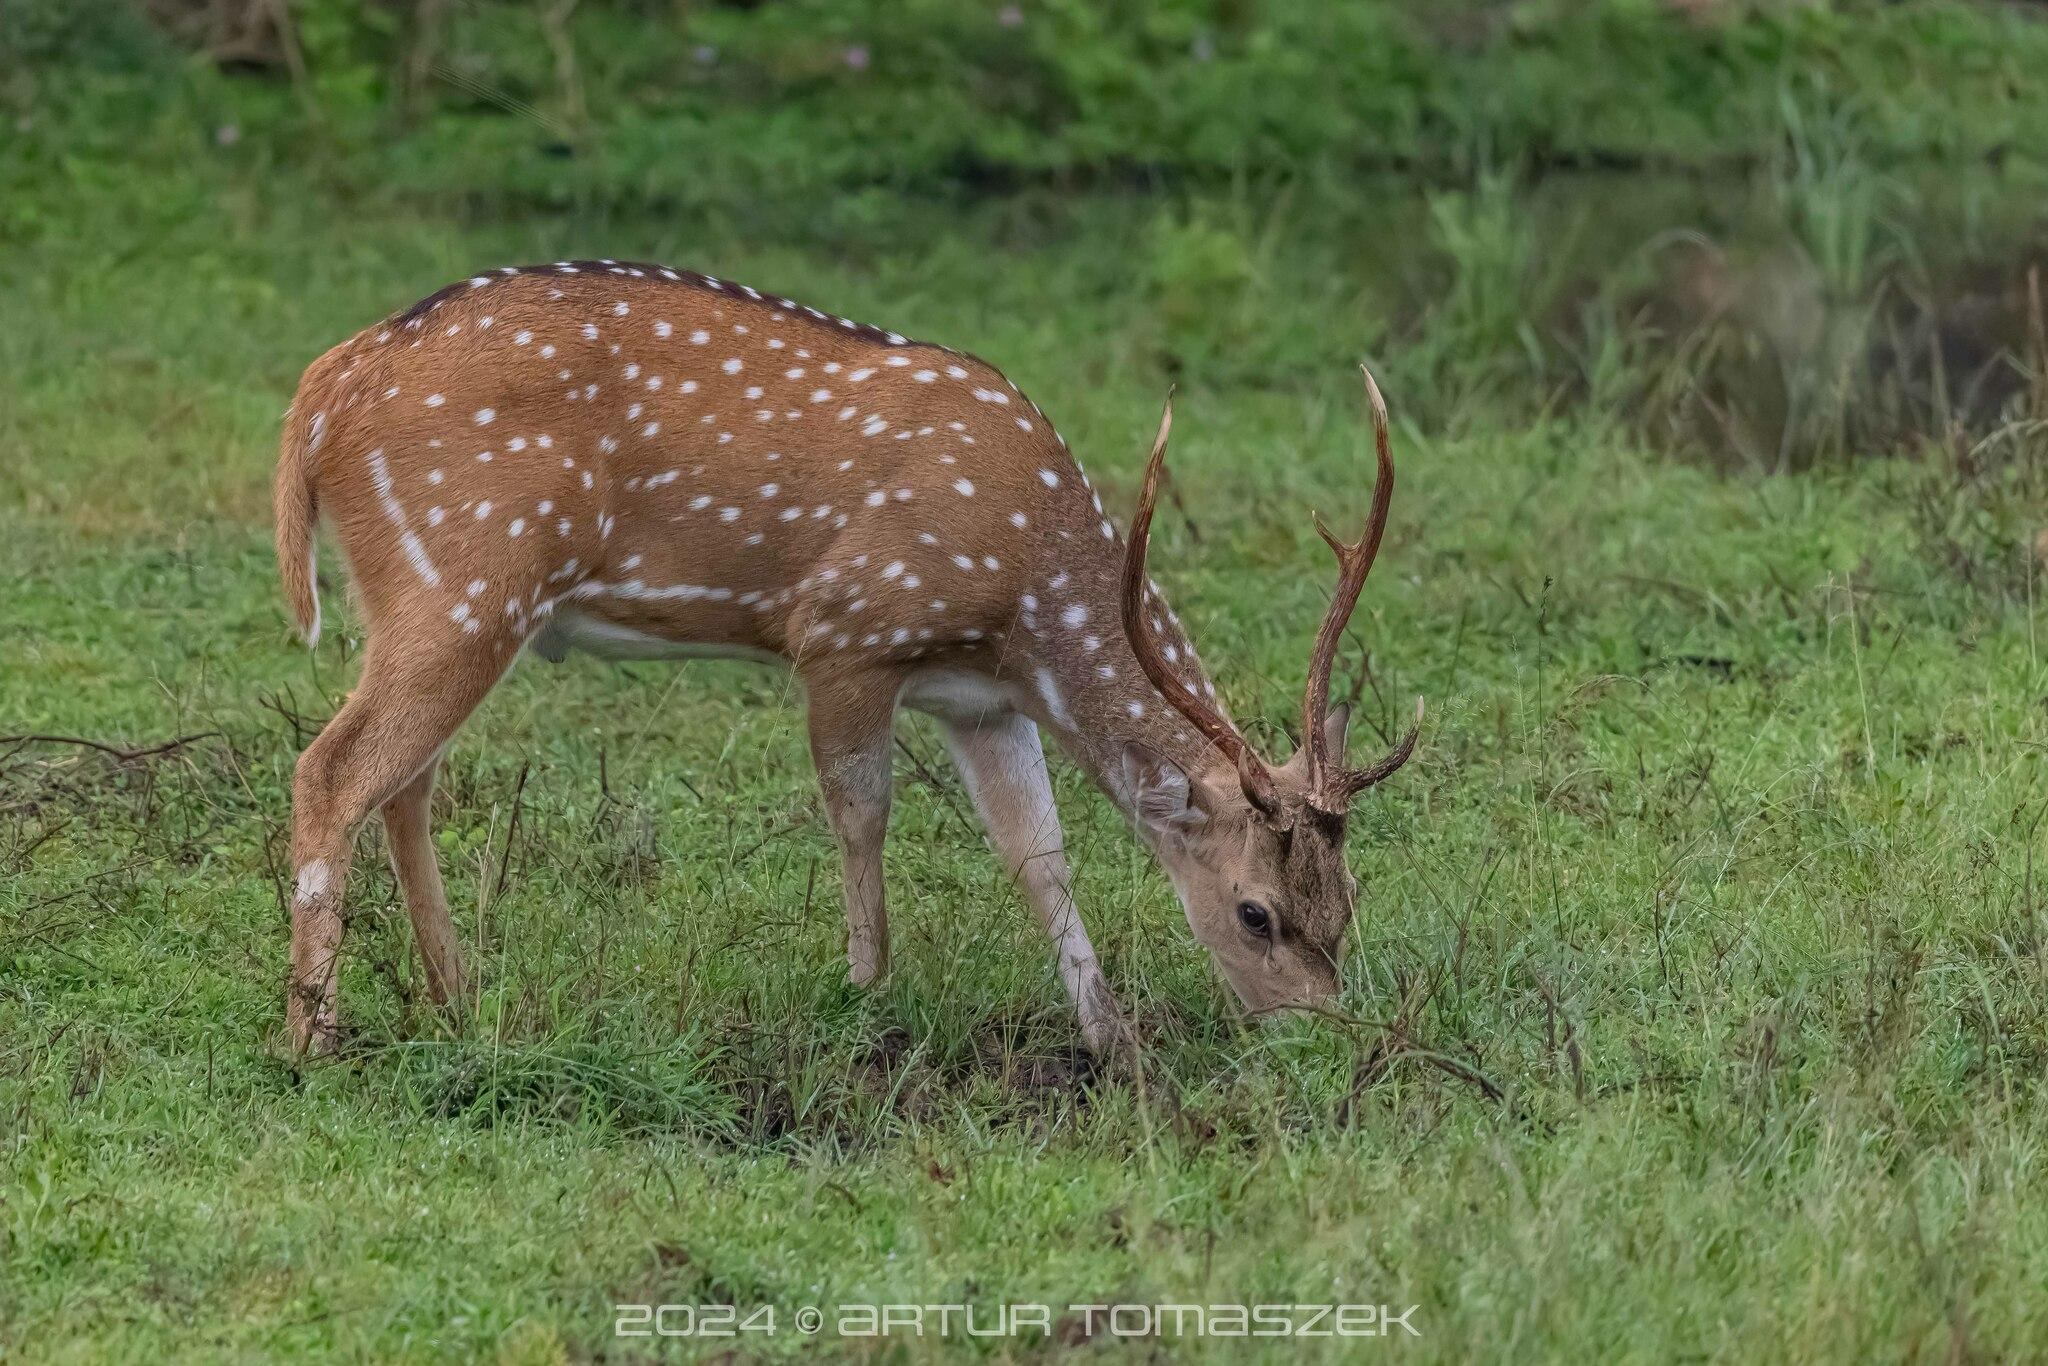Deer: (274, 261, 1417, 1055)
